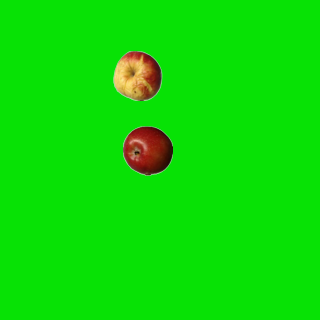Apple Braeburn: (122, 125, 172, 175)
Apple Red Yellow 1: (112, 50, 162, 100)
